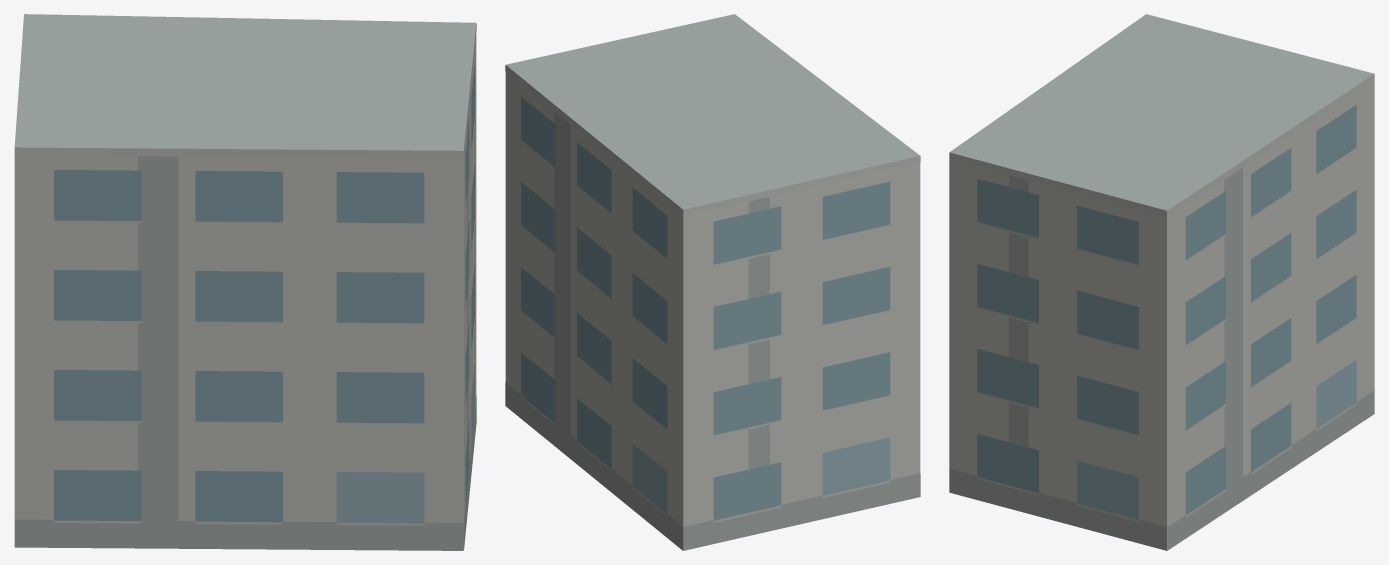
The model's file is residential-ddfce364-f96e-4946-8c37-07d7d86a54e5.glb.
The picture shows the model from 3 angles, left to right: view 1: azimuth 30°, elevation 25°; view 2: azimuth 150°, elevation 25°; view 3: azimuth 270°, elevation 25°; orthographic projection. The views are drawn at different scales.
Parts seen in each view (by area): view 1: residential-ddfce364-f96e-4946-8c37-07d7d86a54e5.tmp; view 2: residential-ddfce364-f96e-4946-8c37-07d7d86a54e5.tmp; view 3: residential-ddfce364-f96e-4946-8c37-07d7d86a54e5.tmp.
Boxes of the visible parts, <box> form: residential-ddfce364-f96e-4946-8c37-07d7d86a54e5.tmp: <box>14,14,476,550</box>; residential-ddfce364-f96e-4946-8c37-07d7d86a54e5.tmp: <box>505,14,920,550</box>; residential-ddfce364-f96e-4946-8c37-07d7d86a54e5.tmp: <box>949,14,1374,550</box>.
Bounding box in the file's own units: 15.14 × 12.2 × 13.84.
